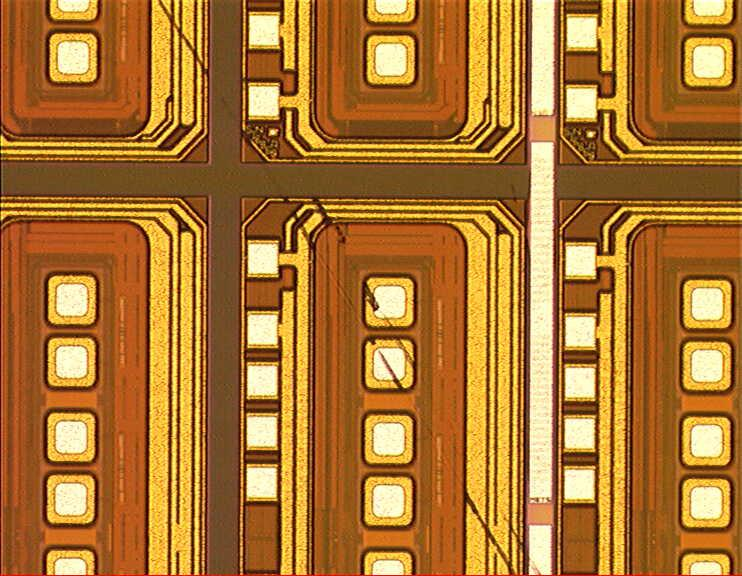SCRATCH: (146, 1, 551, 576)
